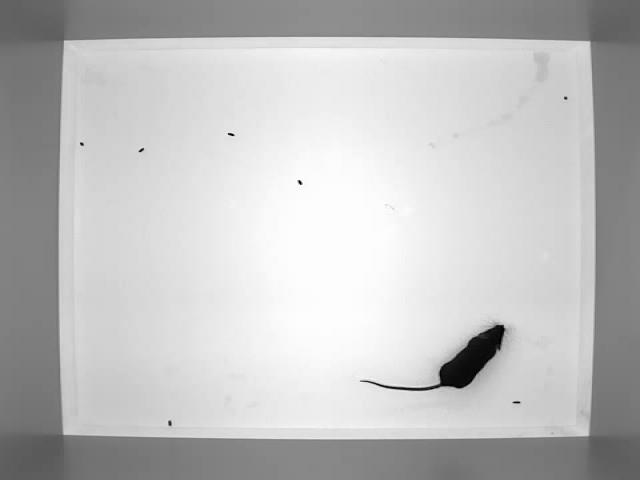Tikus: (362, 323, 507, 391)
